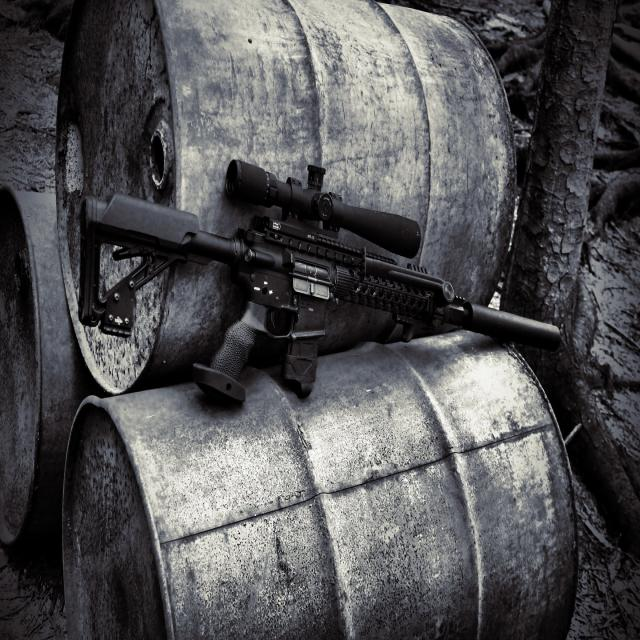Rifle: (80, 161, 561, 401)
